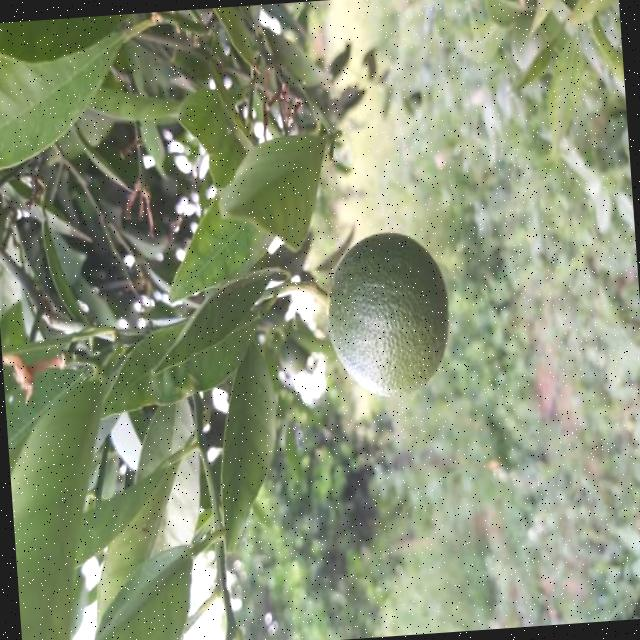Unripe: (322, 230, 456, 398)
